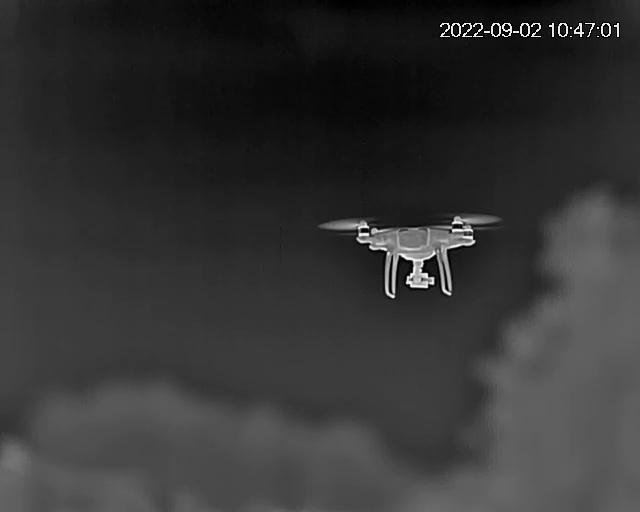DJI-Phantom: (318, 212, 511, 298)
